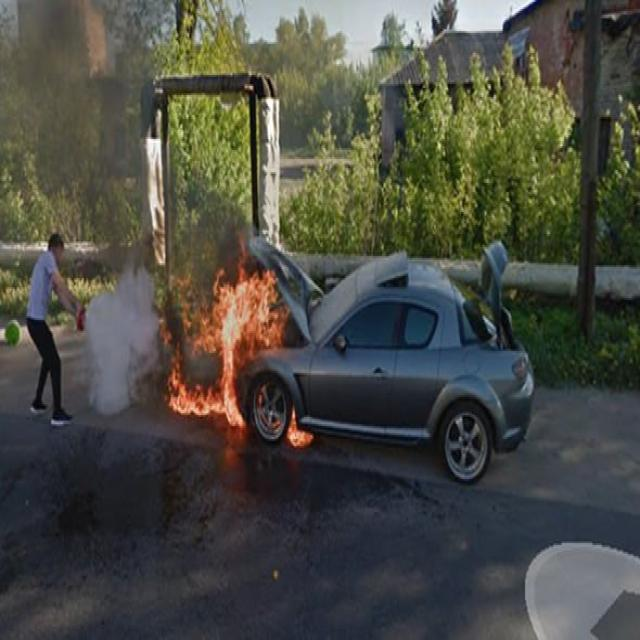Fire: (159, 264, 288, 430), (288, 408, 314, 450)
Smoke: (0, 0, 243, 298), (82, 264, 158, 415)
